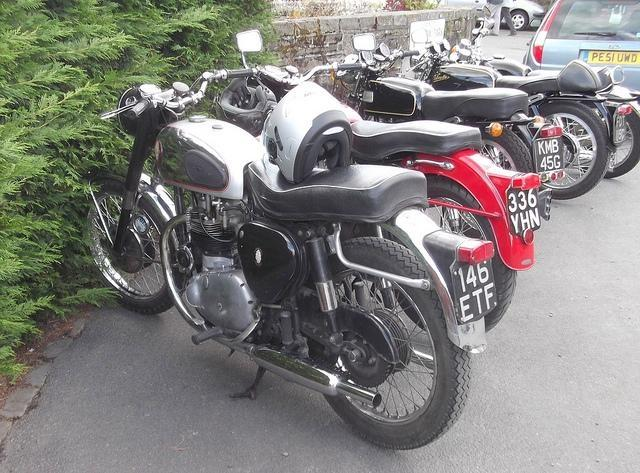car: (523, 1, 640, 93), (444, 0, 548, 31)
motorcycle: (90, 65, 500, 453), (234, 28, 542, 318), (338, 45, 570, 228), (397, 40, 614, 198), (444, 16, 640, 178)
truck: (523, 1, 640, 90)
